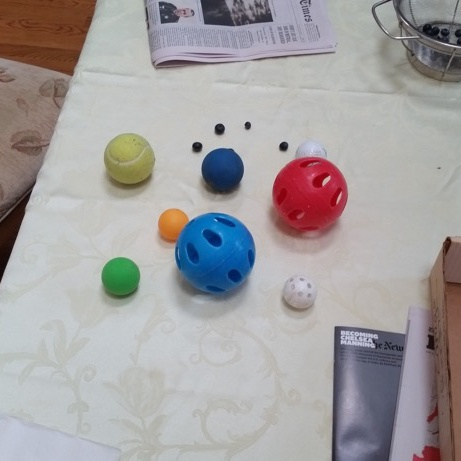ball: (172, 210, 262, 299), (268, 155, 352, 237)
